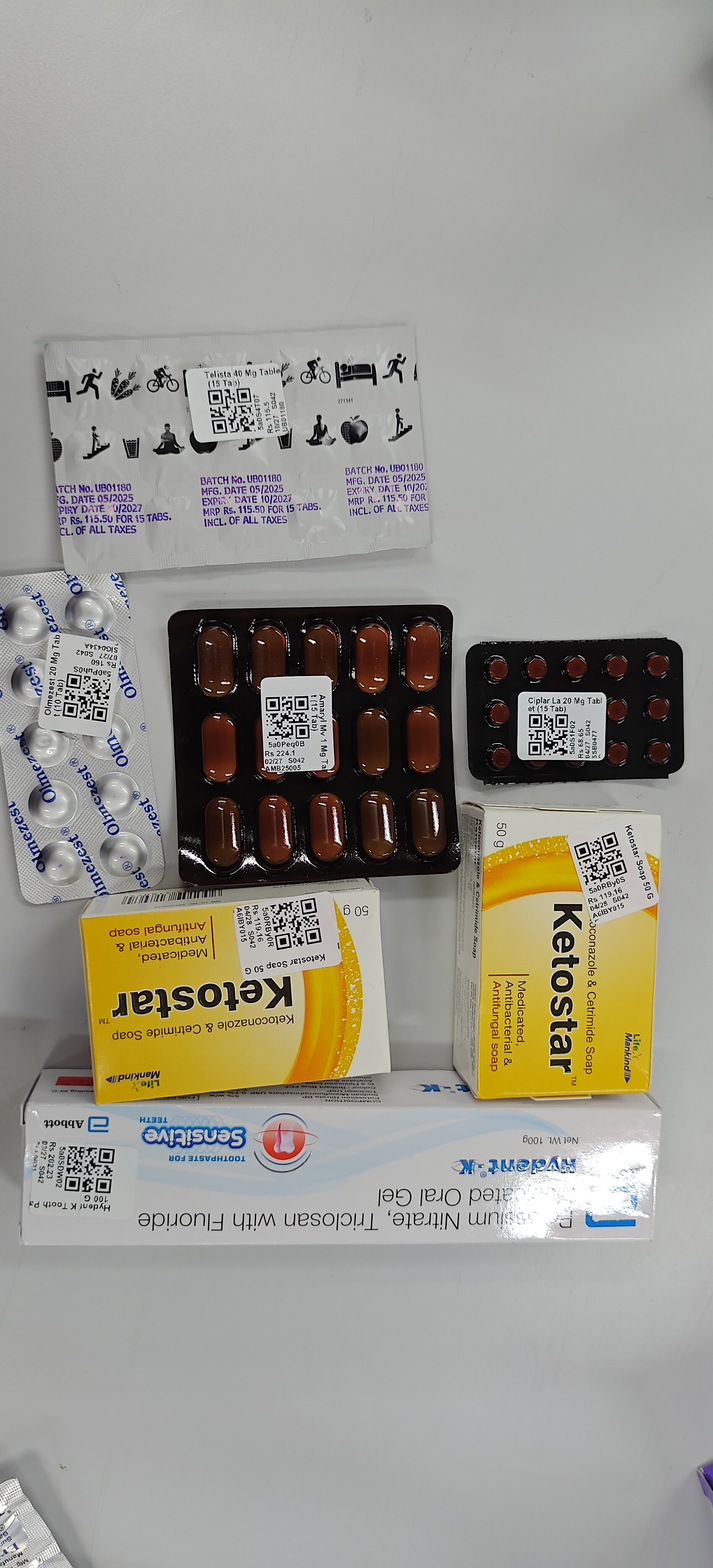qr_code: (64, 706, 309, 984), (573, 831, 627, 887), (269, 897, 321, 949)
